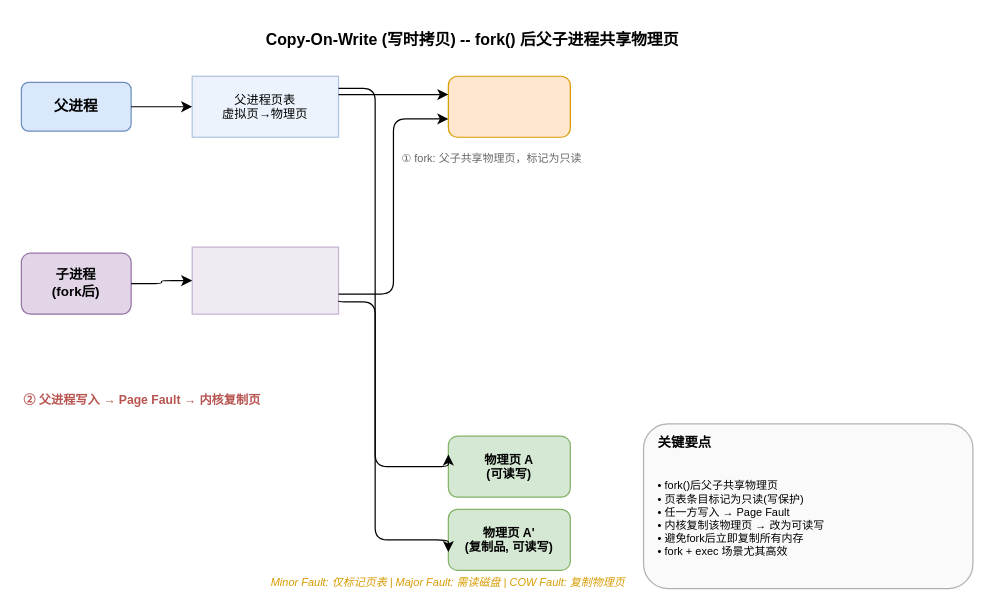
Image size: 994x615. Some labels were removed from this diagram. The shapes that lost their labels are listed below. From the top down, each one's box as (x1, y1, x2, y2) in pixels, then its label:
(447, 75, 570, 137): 物理页 A (只读标记)
(191, 246, 339, 314): 子进程页表 (fork后复制父页表)
